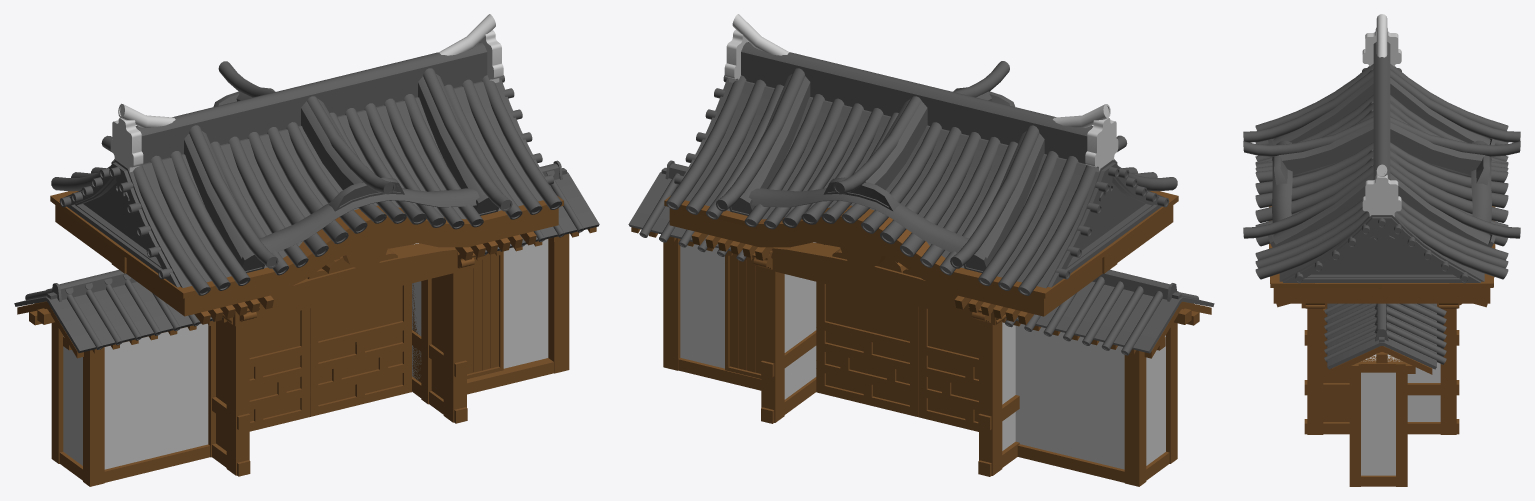
Rendered from mesh_house6.fbx.
3 renders of one model, left to right at view 1: azimuth 30°, elevation 25°; view 2: azimuth 150°, elevation 25°; view 3: azimuth 270°, elevation 25°, orthographic. The views are drawn at different scales.
Visible parts, largest first — view 1: entrance_03_roof, entrance_03_wood, entrance_03_wall; view 2: entrance_03_roof, entrance_03_wood, entrance_03_wall; view 3: entrance_03_roof, entrance_03_wood, entrance_03_wall.
Part boxes in pixels (x1,y1,x2,y2): entrance_03_roof: (14, 42, 599, 352); entrance_03_wood: (17, 191, 596, 486); entrance_03_wall: (63, 14, 548, 469); entrance_03_roof: (628, 42, 1214, 355); entrance_03_wood: (631, 191, 1211, 486); entrance_03_wall: (680, 14, 1165, 469); entrance_03_roof: (1243, 42, 1520, 369); entrance_03_wood: (1269, 206, 1495, 486); entrance_03_wall: (1361, 14, 1440, 475).
Size of the model in its own units: 18.11 by 11.62 by 9.79.
